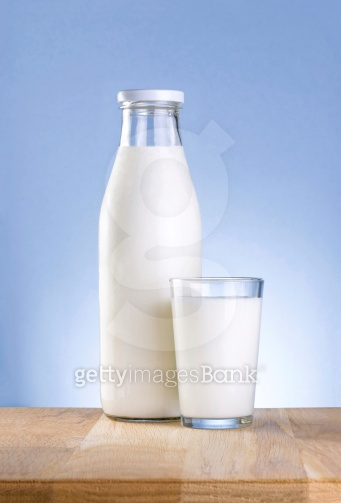glass of milk: (99, 82, 208, 428), (164, 269, 268, 435)
